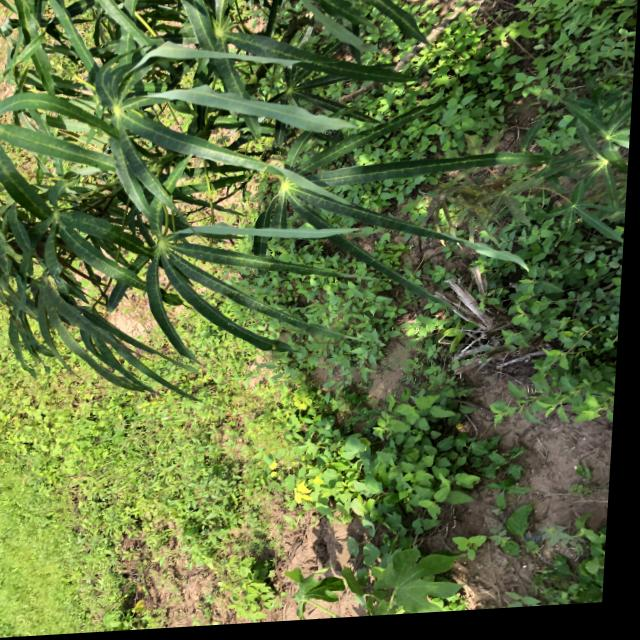Maleza: (0, 397, 213, 621), (286, 365, 534, 528), (245, 488, 490, 604), (497, 237, 639, 416), (443, 11, 612, 149)
Mosca: (164, 233, 185, 261)
